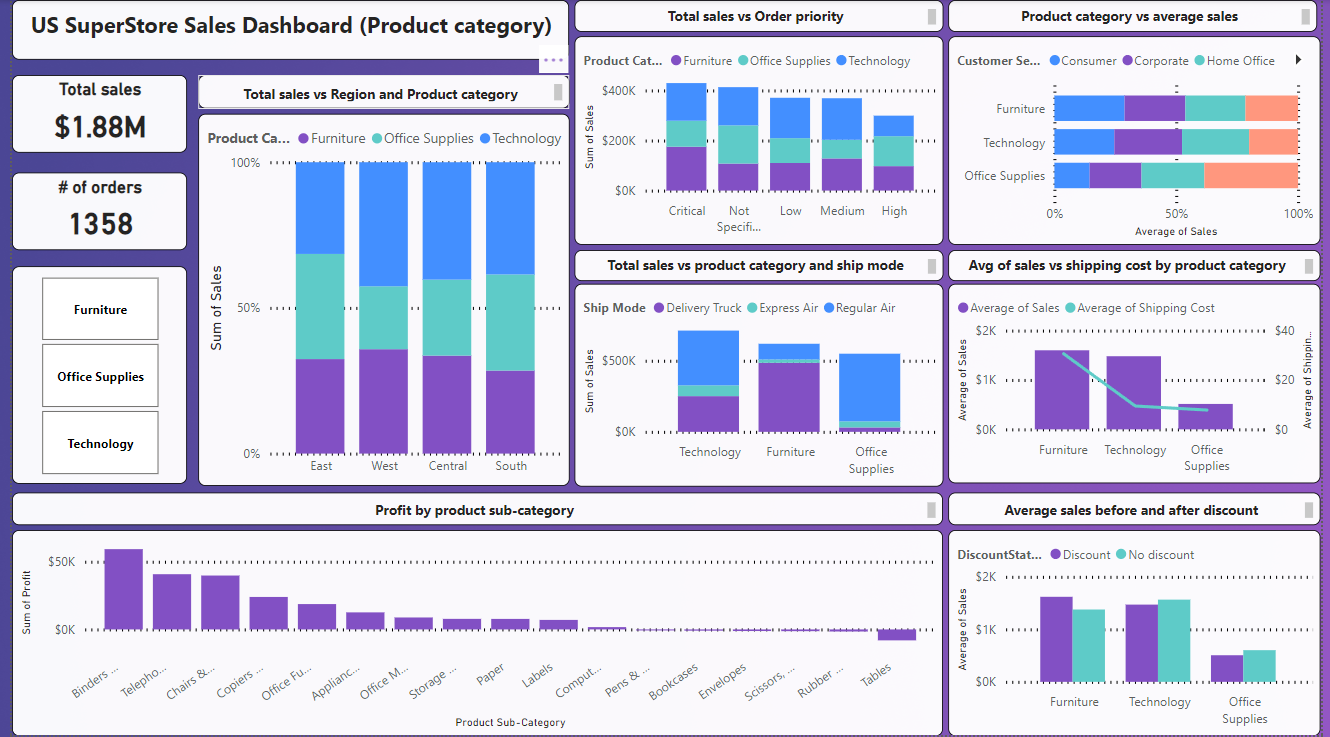

The dashboard page shown, as its layout file describes it:
{"tool":"powerbi","page":{"name":"Page 2","canvas":[1280,720],"ordinal":1},"visuals":[{"type":"clusteredColumnChart","fields":{"Category":["DataSheet.Product Sub-Category"],"Y":["Sum(DataSheet.Profit)"]},"box":[0,518.3,910.7,201.7],"z":0},{"type":"hundredPercentStackedColumnChart","fields":{"Category":["DataSheet.Region"],"Y":["Sum(DataSheet.Sales)"],"Series":["DataSheet.Product Category"]},"box":[182.1,111.2,363.1,364.3],"z":1},{"type":"clusteredColumnChart","fields":{"Category":["DataSheet.Product Category"],"Y":["Avg(DataSheet.Sales)"],"Series":["DataSheet.DiscountStatus"]},"box":[915.6,518.3,364.3,201.7],"z":2},{"type":"lineStackedColumnComboChart","fields":{"Y":["Sum(DataSheet.Sales)"],"Category":["DataSheet.Product Category"],"Series":["DataSheet.Ship Mode"]},"box":[550.1,277.5,360.6,198],"z":3},{"type":"lineClusteredColumnComboChart","fields":{"Y":["Avg(DataSheet.Sales)"],"Category":["DataSheet.Product Category"],"Y2":["Avg(DataSheet.Shipping Cost)"]},"box":[915.6,277.5,364.3,195.6],"z":4},{"type":"hundredPercentStackedBarChart","fields":{"Category":["DataSheet.Product Category"],"Y":["Avg(DataSheet.Sales)"],"Series":["DataSheet.Customer Segment"]},"box":[915.6,35.4,364.3,204.1],"z":5},{"type":"lineStackedColumnComboChart","fields":{"Y":["Sum(DataSheet.Sales)"],"Category":["DataSheet.Order Priority"],"Series":["DataSheet.Product Category"]},"box":[550.1,35.4,360.6,204.1],"z":6},{"type":"textbox","box":[0,0,545.2,58.7],"z":7},{"type":"card","title":"# of orders","fields":{"Values":["Count(DataSheet.Order ID)"]},"box":[0,168.7,171.1,75.8],"z":10},{"type":"card","title":"Total sales","fields":{"Values":["Sum(DataSheet.Sales)"]},"box":[0,73.3,171.1,75.8],"z":11},{"type":"textbox","box":[0,481.6,910.7,32],"z":12},{"type":"textbox","box":[915.6,481.6,364.3,31.8],"z":13},{"type":"textbox","box":[915,0,360.6,31],"z":14},{"type":"textbox","box":[550.1,0,360.6,31],"z":15},{"type":"textbox","box":[915.6,244.5,364.3,30.6],"z":16},{"type":"textbox","box":[550.1,244.5,360.6,30.6],"z":17},{"type":"textbox","box":[182.1,73.3,363.1,33],"z":18},{"type":"slicer","fields":{"Values":["DataSheet.Product Category"]},"box":[0,260.4,171.1,212.7],"z":19}]}

Visuals, with their boxes in screenshot pixels (x1, y1, x2, y2), scaled from the page's 1280x720 canvas onto the 1330x737 screenshot:
clusteredColumnChart - DataSheet.Product Sub-Category x Sum(DataSheet.Profit): x1=0 y1=531 x2=946 y2=736
hundredPercentStackedColumnChart - DataSheet.Region x Sum(DataSheet.Sales): x1=189 y1=114 x2=566 y2=487
clusteredColumnChart - DataSheet.Product Category x Avg(DataSheet.Sales): x1=951 y1=531 x2=1329 y2=736
lineStackedColumnComboChart - Sum(DataSheet.Sales) x DataSheet.Product Category: x1=572 y1=284 x2=946 y2=487
lineClusteredColumnComboChart - Avg(DataSheet.Sales) x DataSheet.Product Category: x1=951 y1=284 x2=1329 y2=484
hundredPercentStackedBarChart - DataSheet.Product Category x Avg(DataSheet.Sales): x1=951 y1=36 x2=1329 y2=245
lineStackedColumnComboChart - Sum(DataSheet.Sales) x DataSheet.Order Priority: x1=572 y1=36 x2=946 y2=245
textbox: x1=0 y1=0 x2=566 y2=60
"# of orders" card: x1=0 y1=173 x2=178 y2=250
"Total sales" card: x1=0 y1=75 x2=178 y2=153
textbox: x1=0 y1=493 x2=946 y2=526
textbox: x1=951 y1=493 x2=1329 y2=526
textbox: x1=951 y1=0 x2=1325 y2=32
textbox: x1=572 y1=0 x2=946 y2=32
textbox: x1=951 y1=250 x2=1329 y2=282
textbox: x1=572 y1=250 x2=946 y2=282
textbox: x1=189 y1=75 x2=566 y2=109
slicer - DataSheet.Product Category: x1=0 y1=267 x2=178 y2=484
